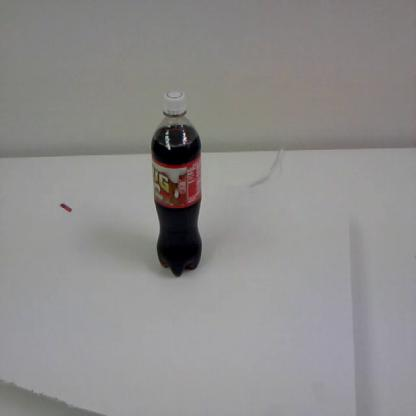bottle: (149, 88, 203, 278)
